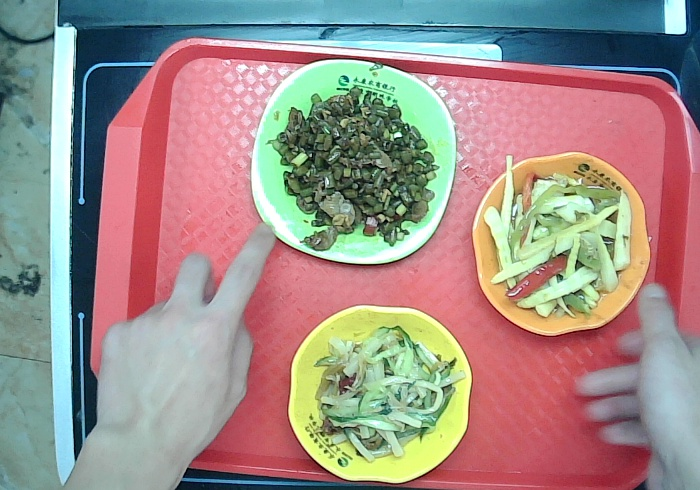YKMZ-Huang_Se_Ao_Bian_Wan: (285, 301, 474, 490)
YKMZ-Ju_Se_Ao_Bian_Wan: (471, 150, 652, 339)
YKMZ-Lv_Se_Fang_Die: (250, 57, 457, 267)
